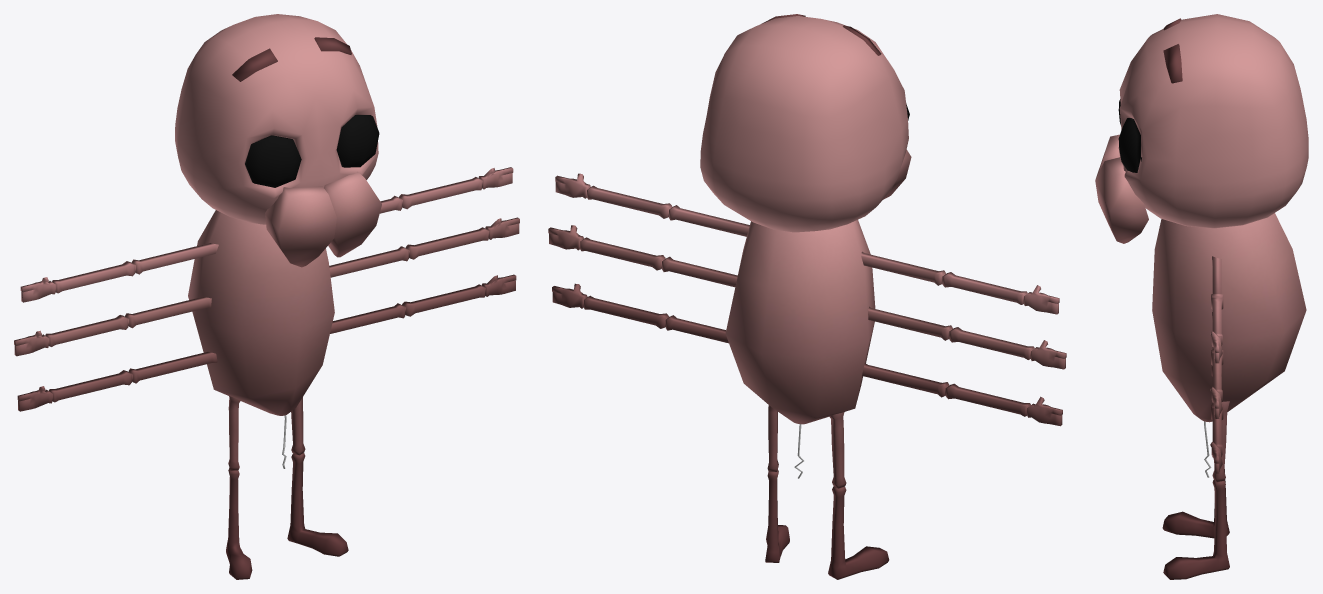
The model's file is Spidey.FBX.
3 views of the same model, side by side, from view 1: azimuth 30°, elevation 25°; view 2: azimuth 150°, elevation 25°; view 3: azimuth 270°, elevation 25° (orthographic). The views are drawn at different scales.
Parts seen in each view (by area): view 1: Spidey; view 2: Spidey; view 3: Spidey.
Boxes of the visible parts, box(x1,y1,x2,y2) form: Spidey: box(14, 14, 519, 579); Spidey: box(548, 14, 1066, 579); Spidey: box(1095, 14, 1308, 579).
Bounding box in the file's own units: 238 × 237 × 86.88.
5 materials, 1 textured.
